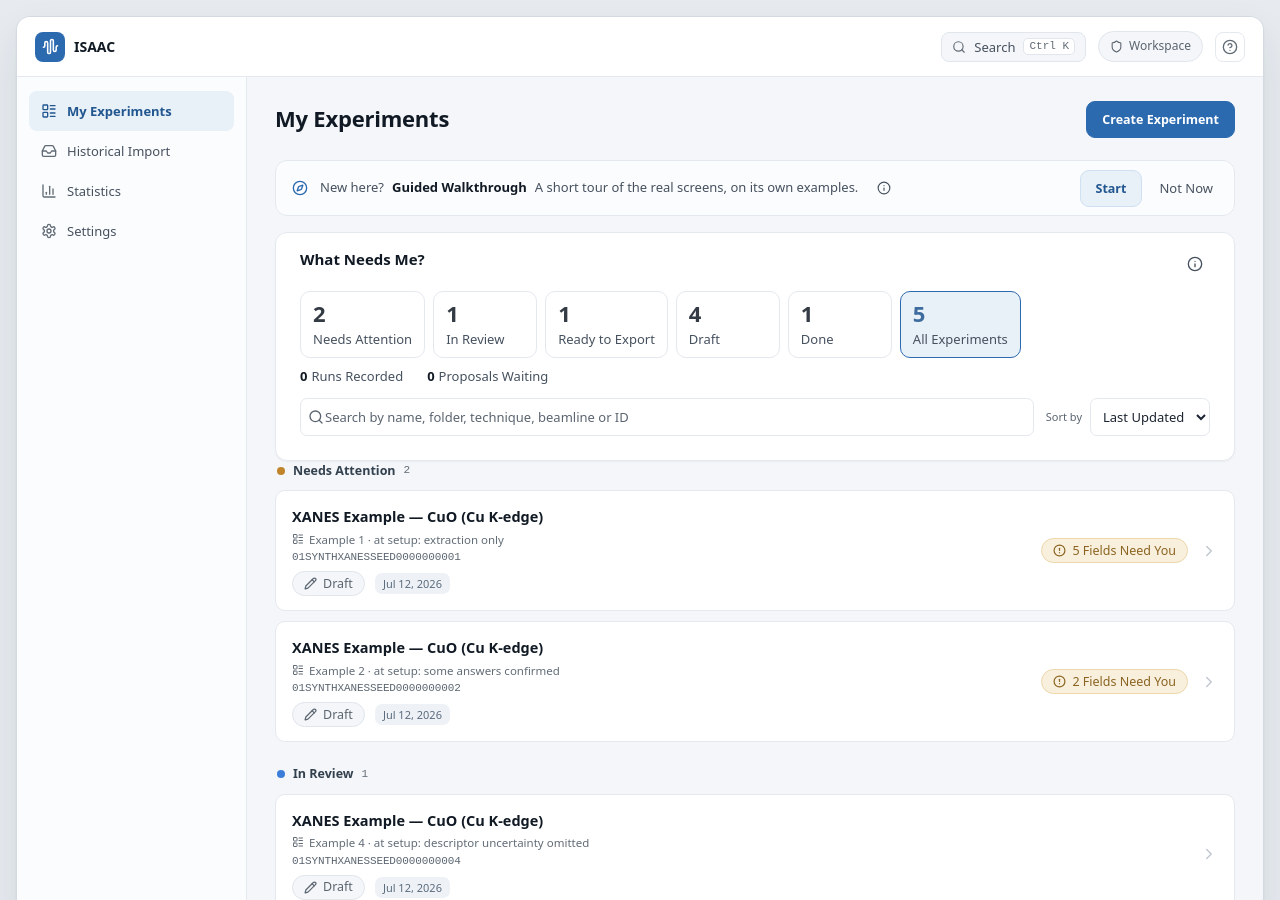
Scenario: worked-example bar — what it may claim › T0 · does not deny the example rows it is rendered above
This screenshot has width=1280, height=900.
Click the button with aria-label "Start Guided Walkthrough": click(1111, 188) [1080, 170, 1142, 207]
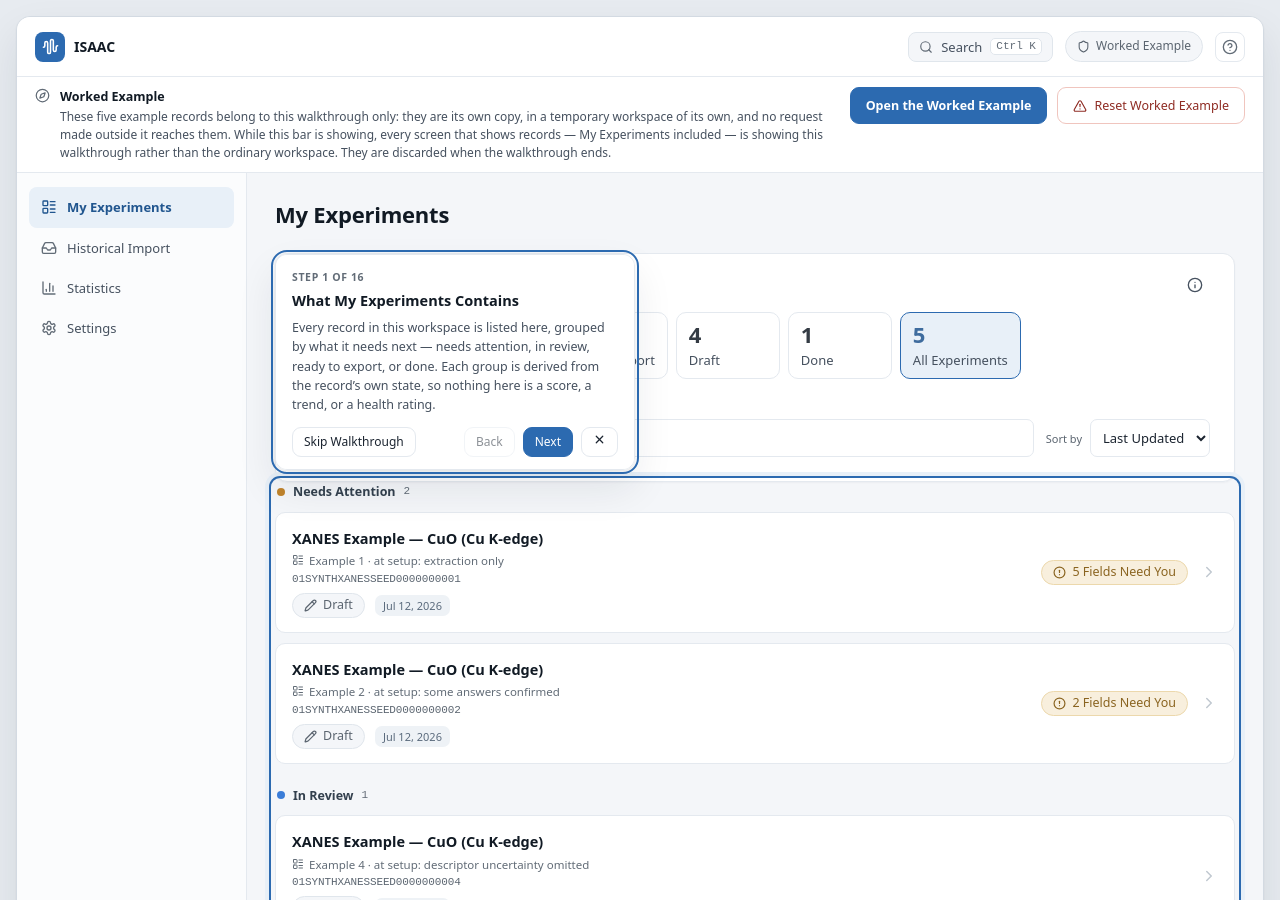
expect the element with class "tutorial-session-bar" is shown: met, box [17, 77, 1263, 173]
expect the element with class "tutorial-session-bar" shows "belong to this walkthrough only": met, box [60, 108, 823, 161]
expect the element with class "tutorial-session-bar" shows "no request made outside it reaches them": met, box [60, 108, 823, 161]
